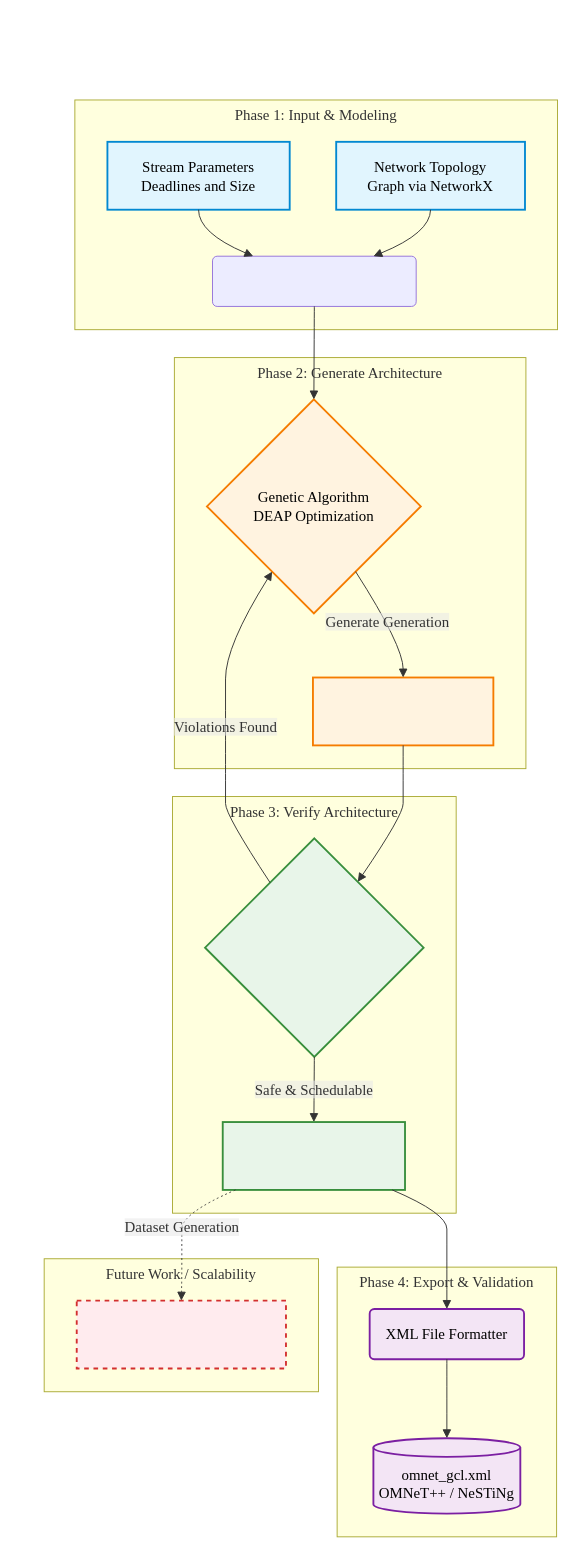
The diagram is 574 pixels wide and 1553 high, and some of its shapes have lost their labels. The centre of each missing label's shape, as x and y in pixels:
Proposed Schedule Gate Control Lists: [403,711]
System Model Formulation: [314,280]
Train GNN Models Fast Network Synthesis: [180,1334]
Validated Schedule Conflict-Free GCL: [313,1155]
Z3 SMT Solver Formal Verification: [314,947]
